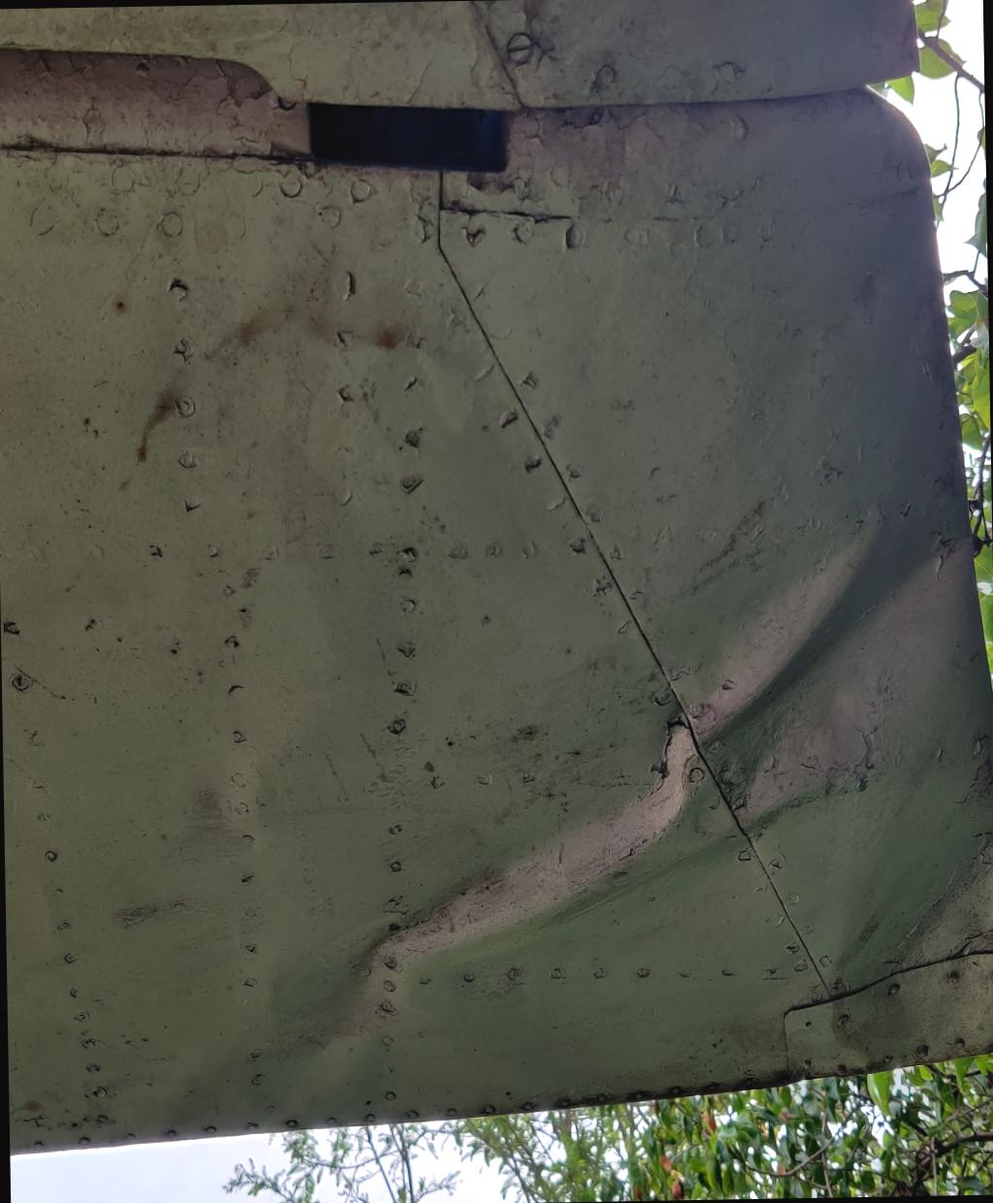crack: (646, 713, 690, 801)
dent: (427, 452, 982, 979), (141, 888, 443, 1171)
